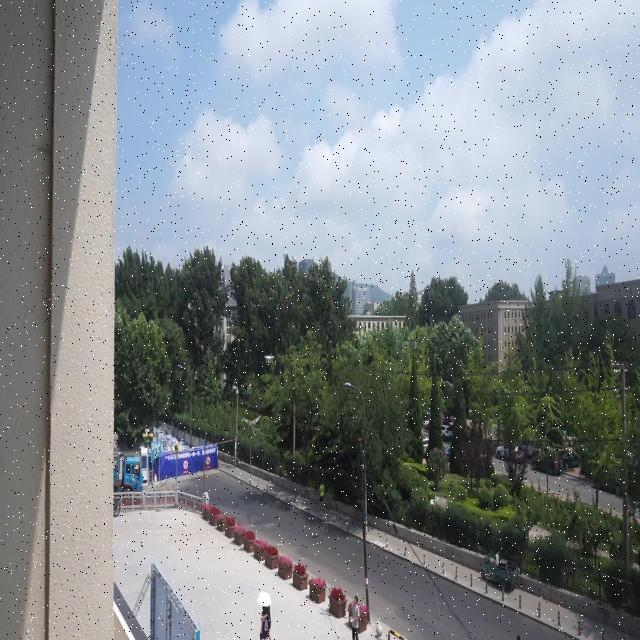UAV: (264, 355, 275, 363)
